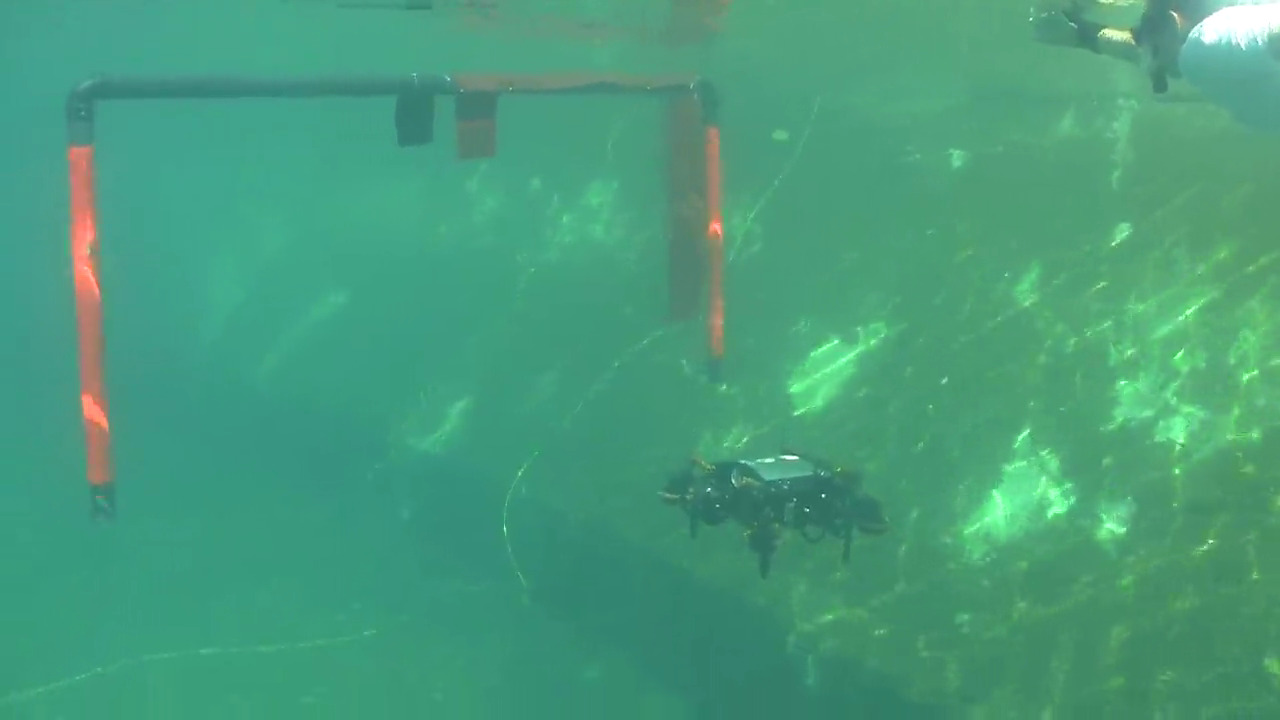gate: (58, 60, 743, 444)
